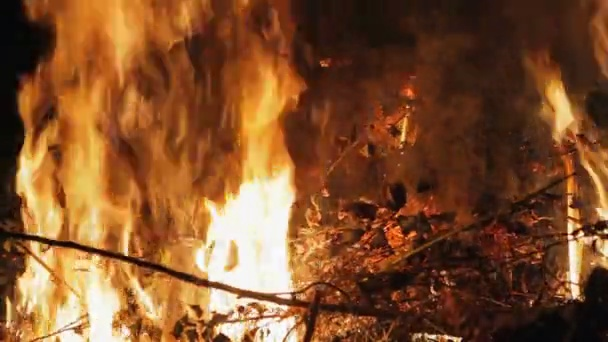fire: (12, 4, 308, 342), (565, 145, 608, 297), (546, 78, 572, 131)
